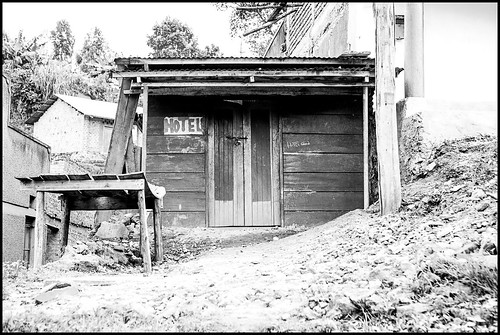building: (109, 47, 407, 240), (27, 91, 122, 164)
door: (201, 95, 285, 227)
